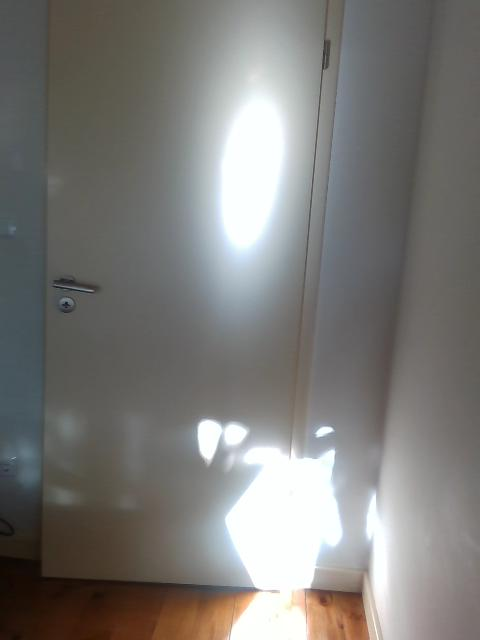door: (39, 1, 326, 592)
